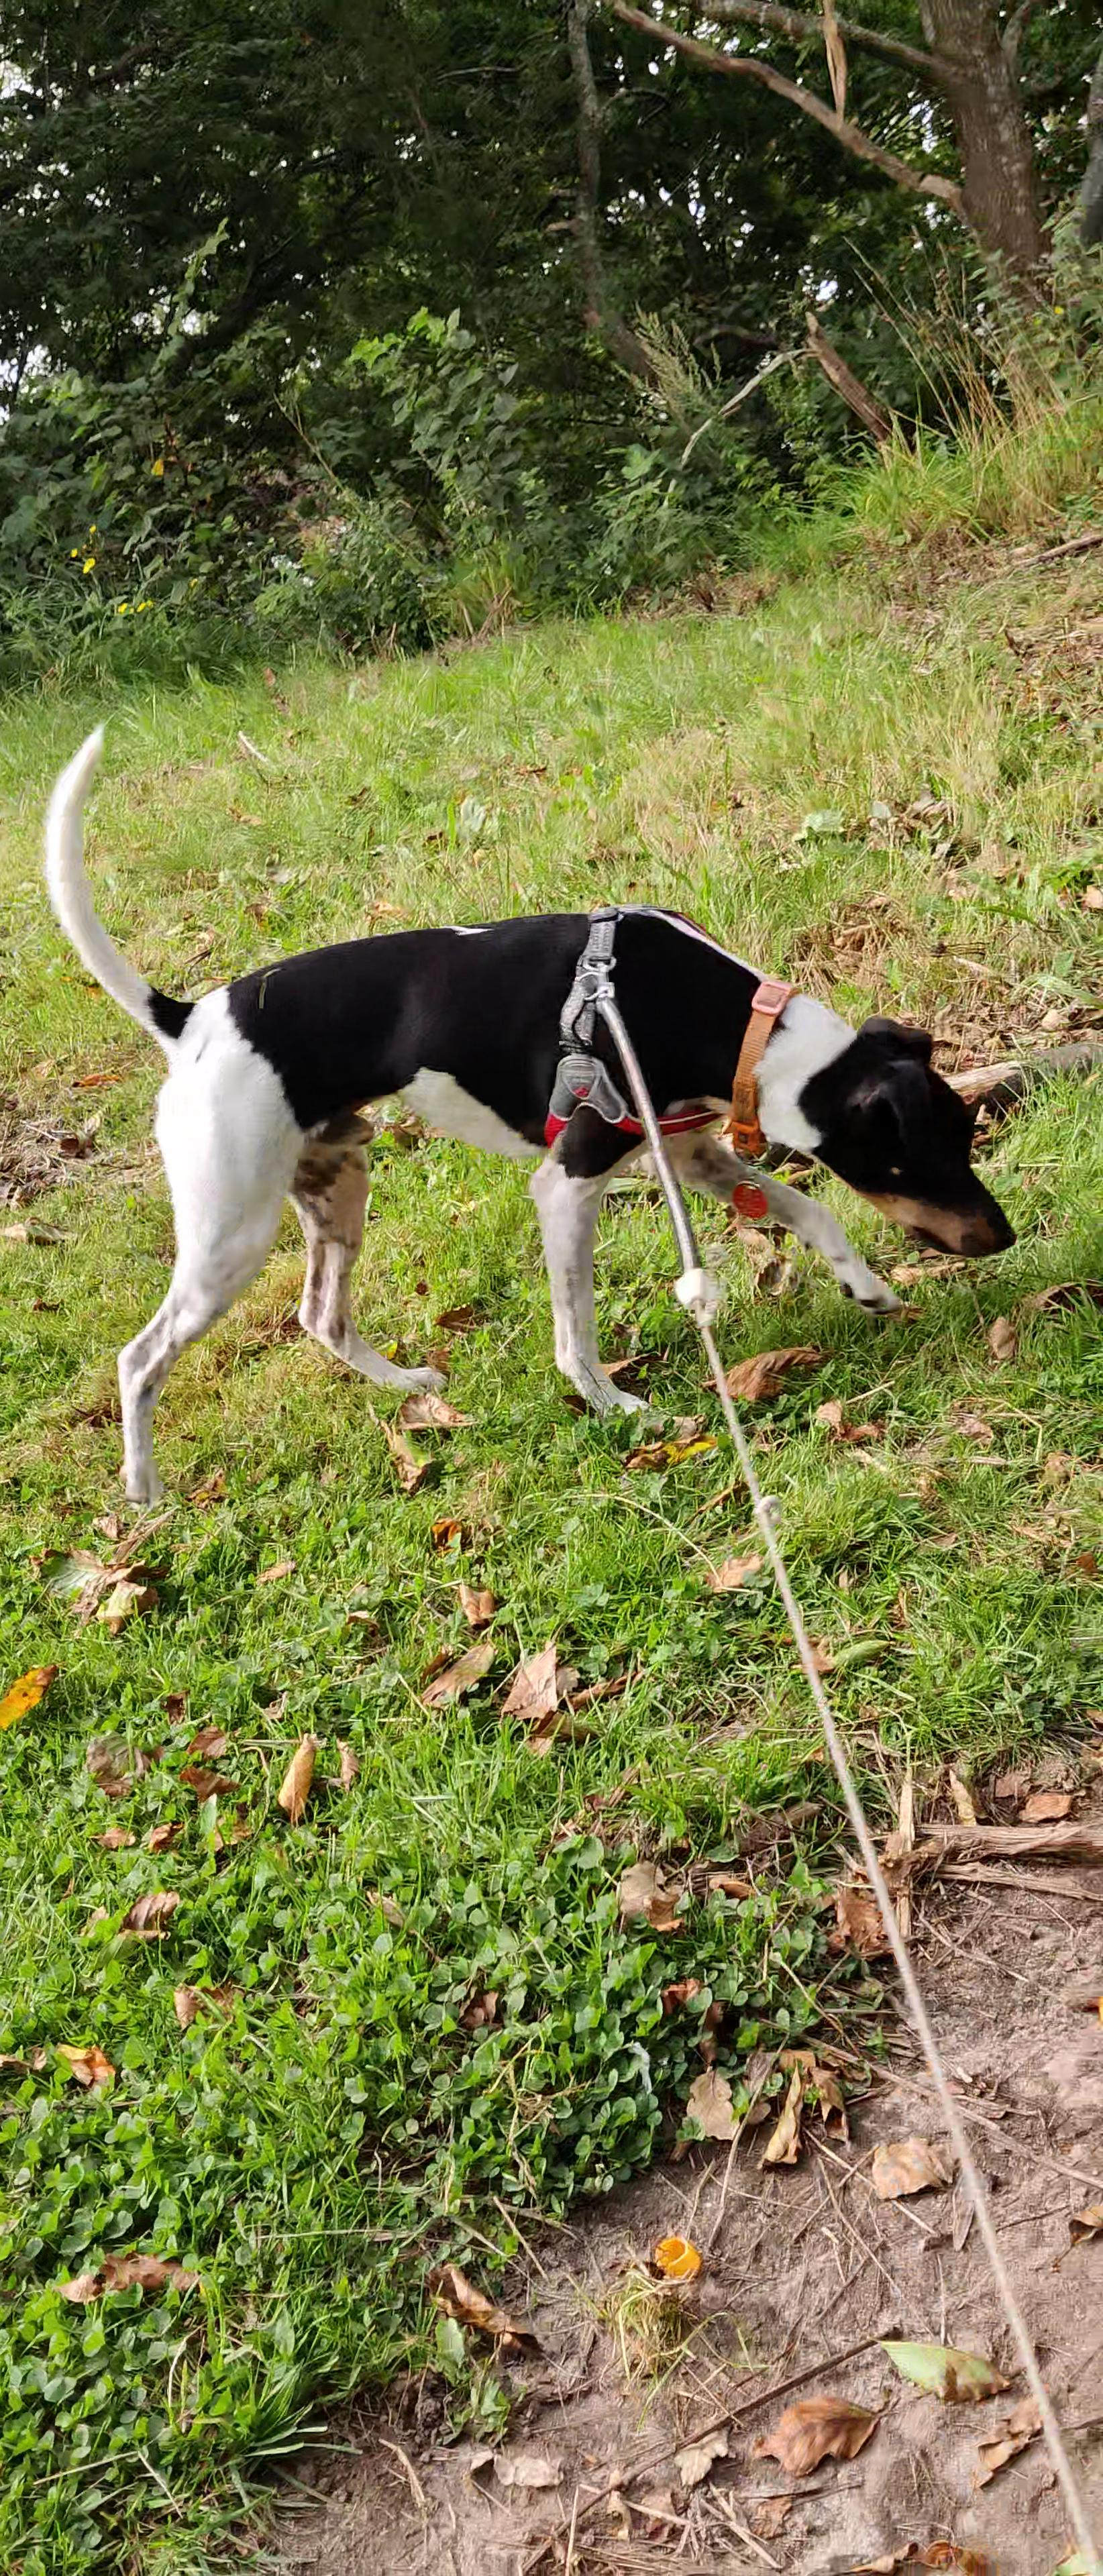Dog: (28, 705, 1036, 1526)
